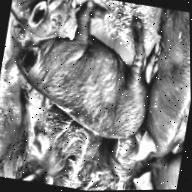boar: (0, 20, 165, 135), (0, 103, 140, 192), (129, 7, 192, 174), (3, 0, 84, 65)
